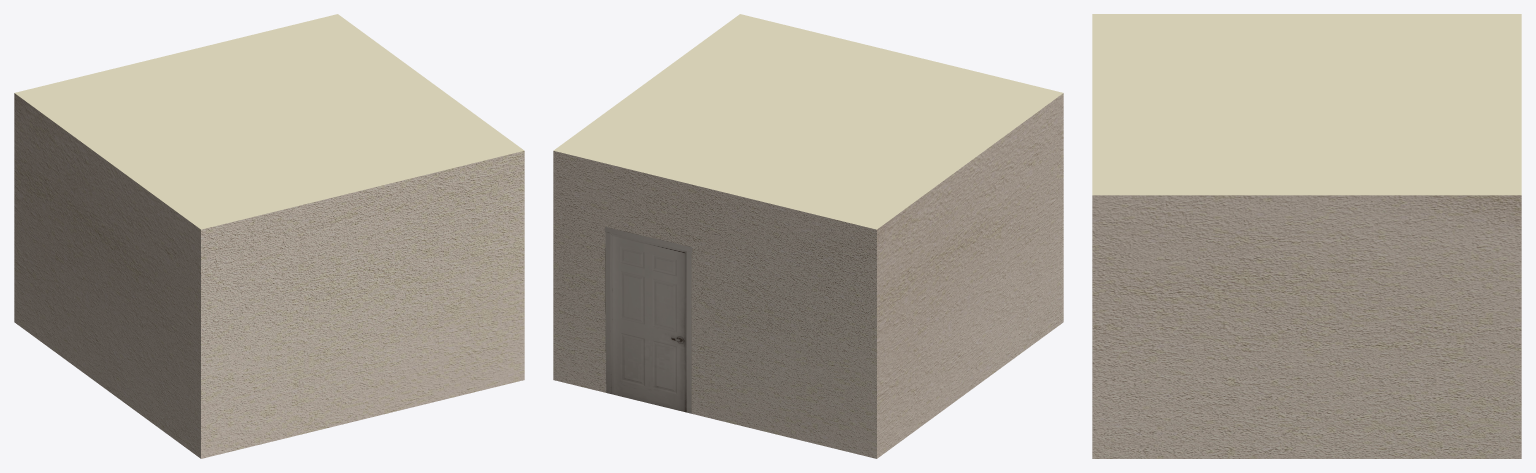
File: lavaLamp.glb
3 renders of one model, left to right at view 1: azimuth 30°, elevation 25°; view 2: azimuth 150°, elevation 25°; view 3: azimuth 270°, elevation 25°, orthographic. The views are drawn at different scales.
Parts seen in each view (by area): view 1: Room, Ceiling; view 2: Room, Ceiling; view 3: Room, Ceiling.
Part boxes in pixels (box(x1,y1,x2,y2)): Room: box(14, 93, 524, 458); Ceiling: box(15, 14, 524, 229); Room: box(553, 93, 1063, 458); Ceiling: box(553, 14, 1062, 229); Room: box(1092, 195, 1521, 458); Ceiling: box(1092, 14, 1521, 195).
Size of the model in its own units: 9.23 by 6.25 by 9.23.
Materials: 13 (9 with a texture image).
